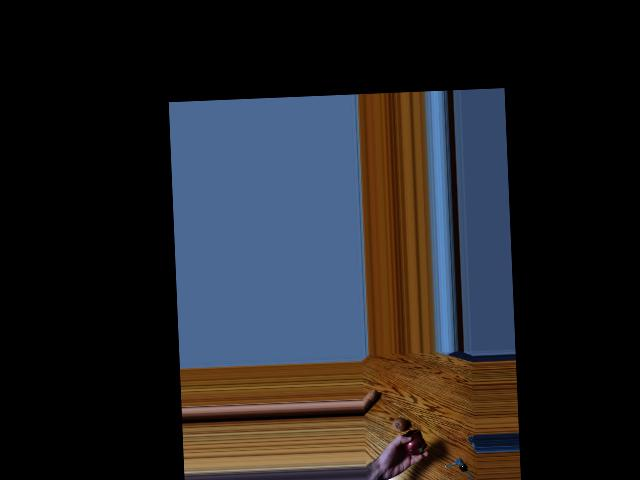onion: (405, 434, 425, 454)
